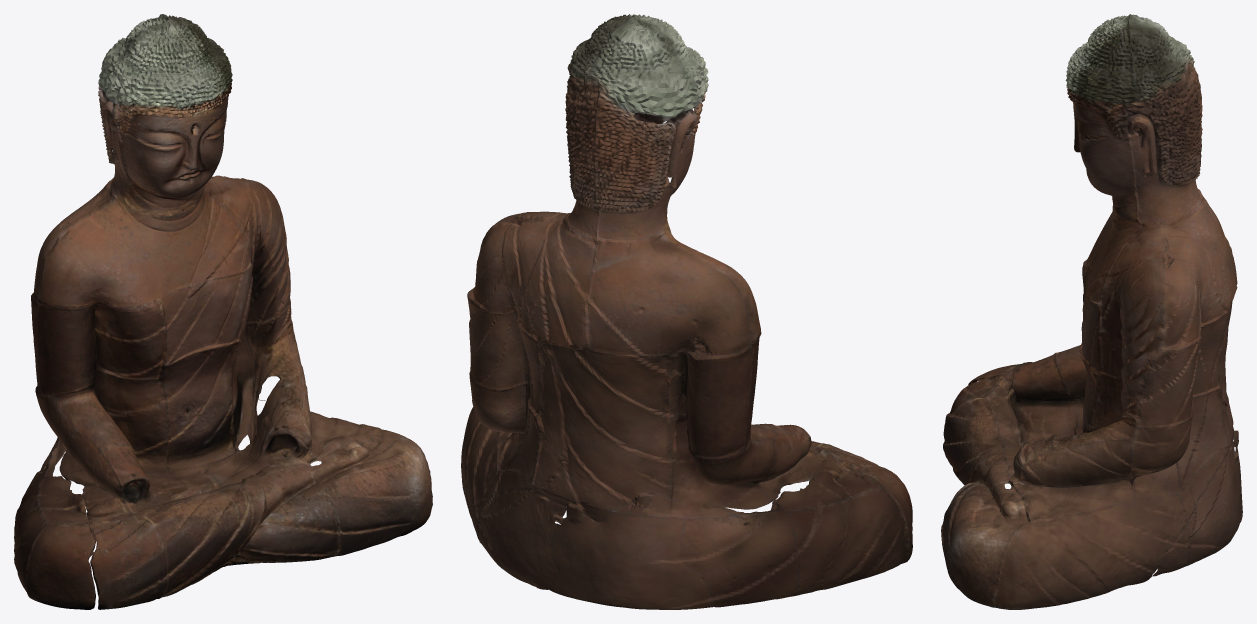
The model's file is iron-buddha.glb.
3 renders of one model, left to right at view 1: azimuth 30°, elevation 25°; view 2: azimuth 150°, elevation 25°; view 3: azimuth 270°, elevation 25°, orthographic. The views are drawn at different scales.
Parts seen in each view (by area): view 1: bon005191-000-30000; view 2: bon005191-000-30000; view 3: bon005191-000-30000.
Boxes of the visible parts, x1=… form: bon005191-000-30000: x1=14, y1=14, x2=432, y2=609; bon005191-000-30000: x1=461, y1=14, x2=912, y2=609; bon005191-000-30000: x1=941, y1=14, x2=1242, y2=609.
Bounding box in the file's own units: 1.19 × 1.41 × 0.7754.
Materials: 1 (1 with a texture image).
